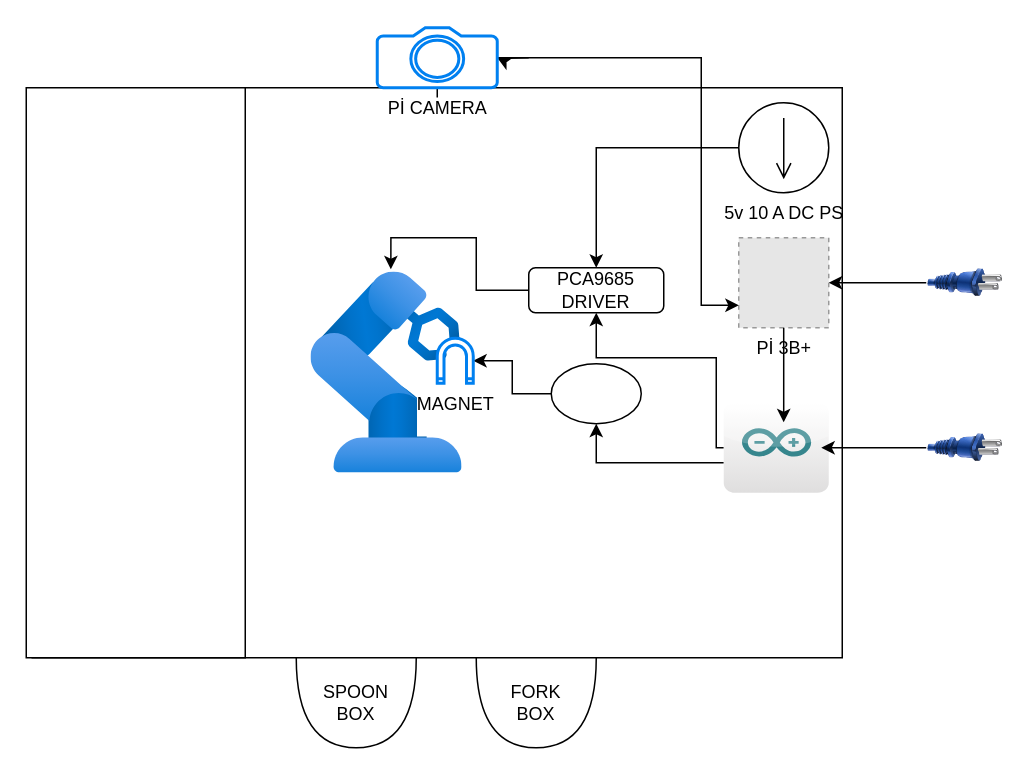
This 1028x774 diagram has some shape labels left out. Grey dashed boxes stand in for pictures. The centre of each missing label's shape, as x and y in pixels:
REGION TO BE DETECTED: point 135,372
ROLE: point 595,393
UNO: point 775,447
